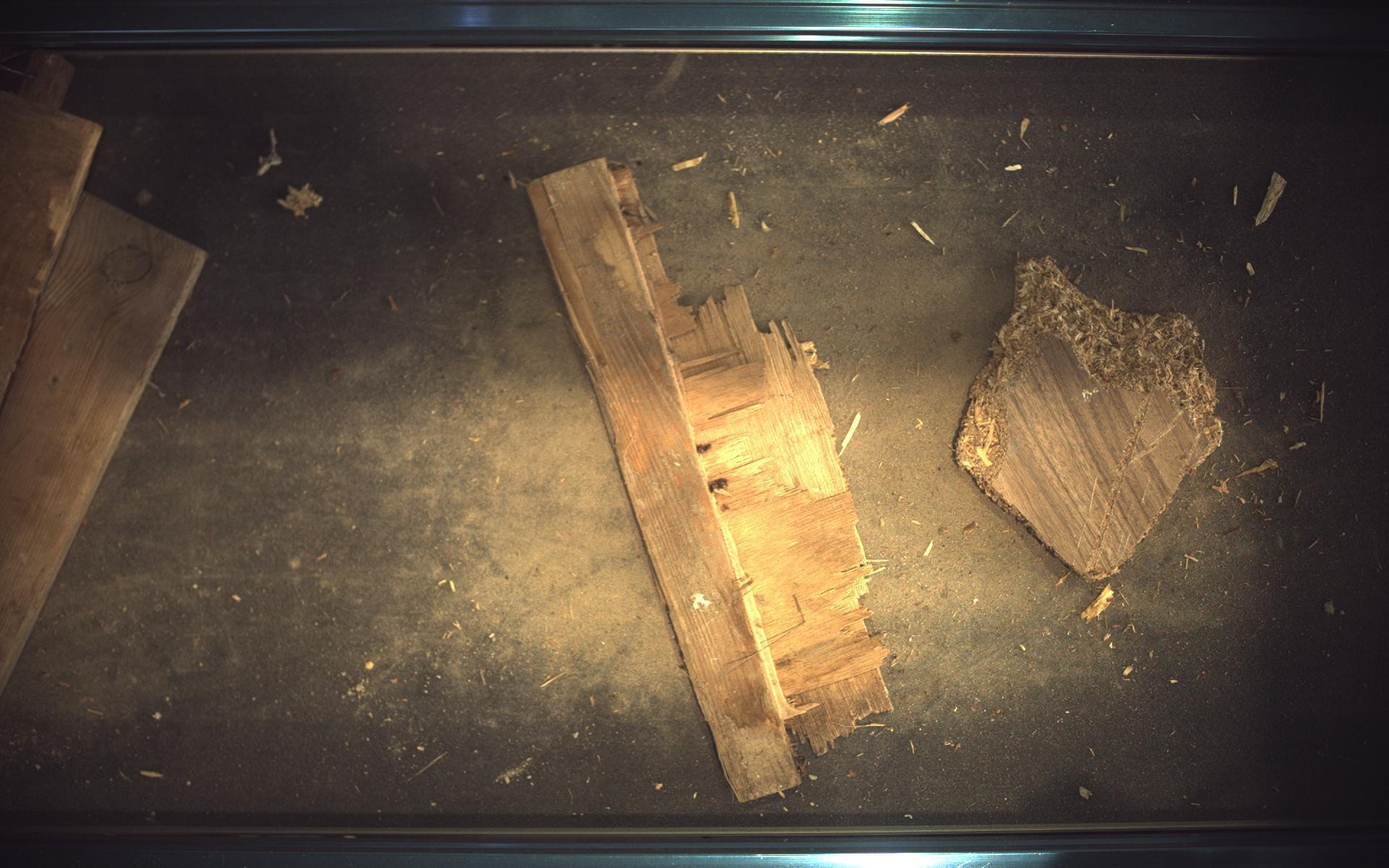wood: (528, 158, 894, 802), (1, 193, 205, 692), (958, 257, 1226, 581), (1, 90, 101, 401)
